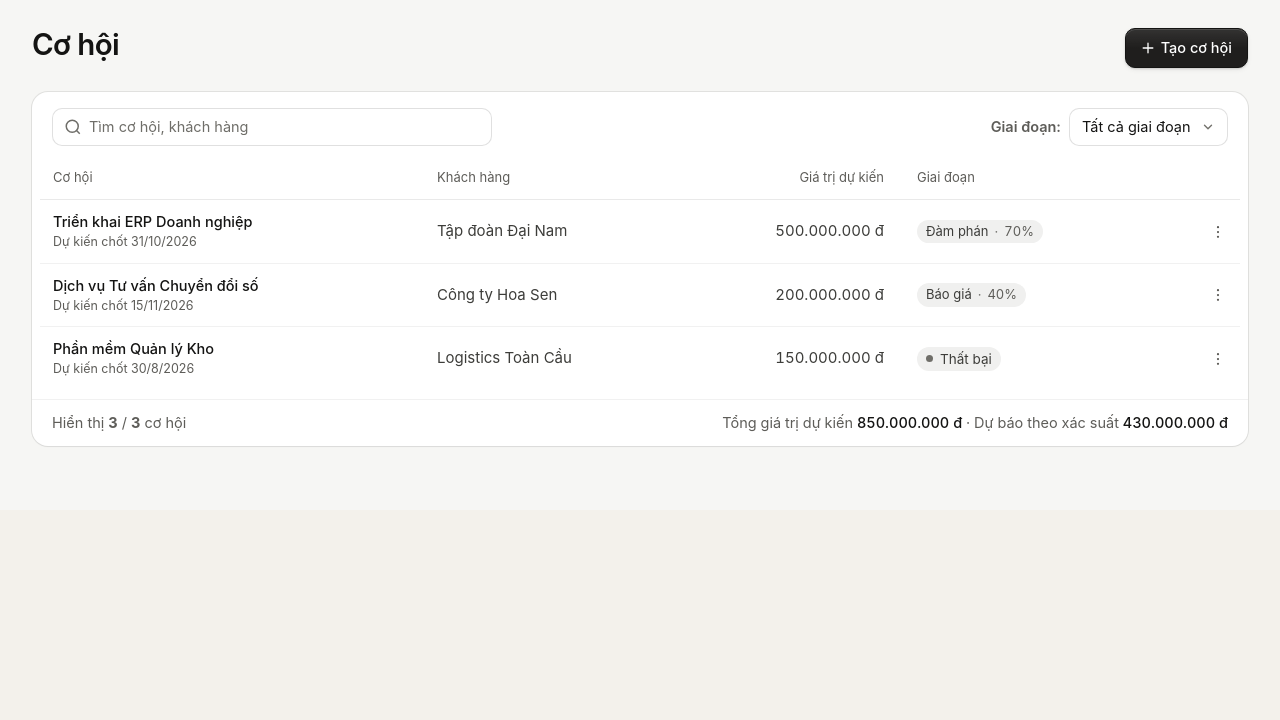
Test: Ghi nhận kết quả thắng thua của cơ hội (NCL-03-CN-005) › Quy tắc QTN-06 & khóa cơ hội đã đóng (TC-04) › QTN-06: cơ hội chưa tới Đàm phán vẫn ghi nhận được kết quả Thua, nhưng không chốt Thắng được
Click the button named "Thao tác với Dịch vụ Tư vấn Chuyển đổi số": (1218, 295) top-left (1202, 279), bottom-right (1234, 311)
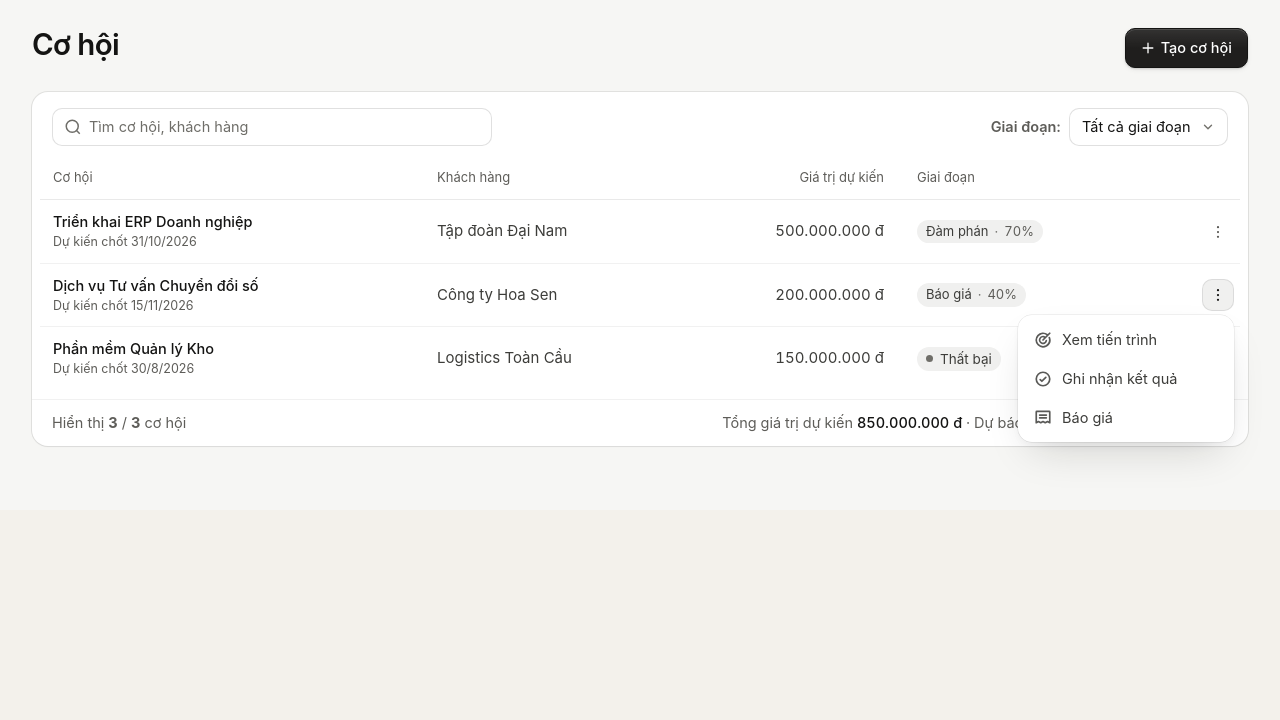
Click the menu item with test id "btn-close-opportunity-2": (1126, 379) top-left (1024, 360), bottom-right (1228, 398)
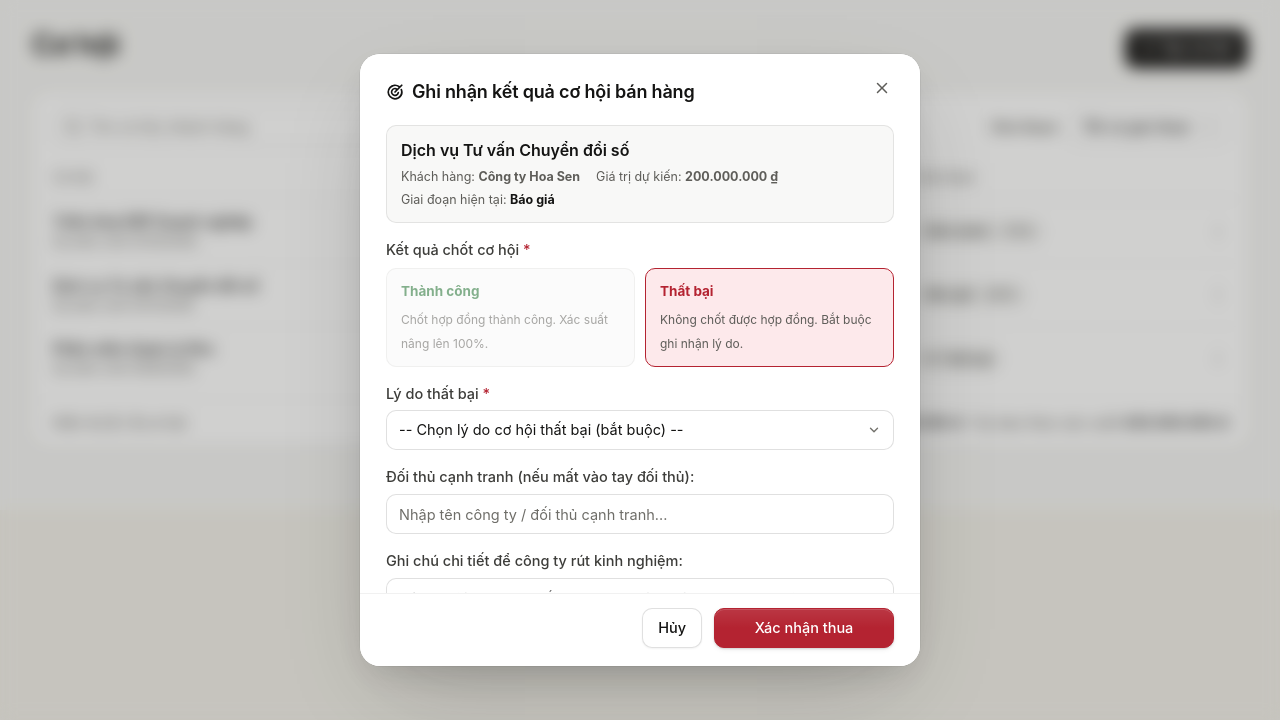
expect the element with test id "lost-reason-section" is shown: met, box top-left (386, 382), bottom-right (894, 450)
Click the button with test id "btn-select-won": (510, 317) top-left (386, 268), bottom-right (635, 367)
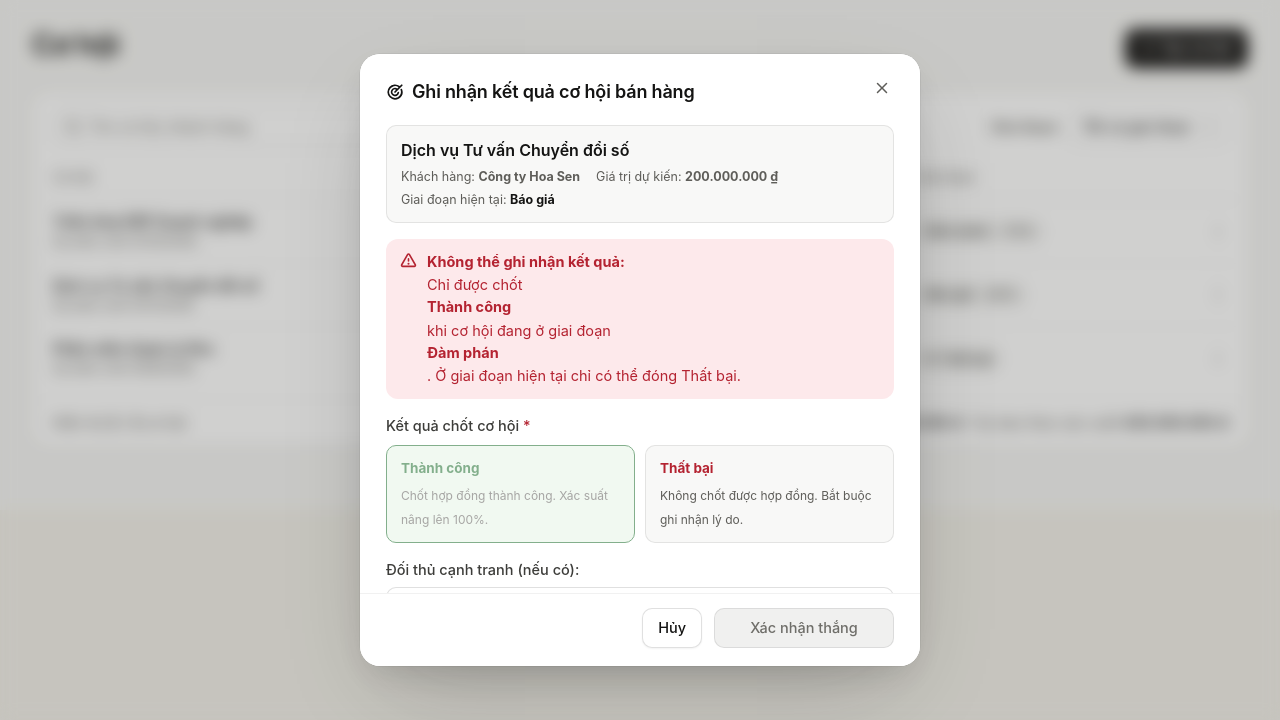
expect the message with test id "ineligible-stage-alert" shows "Đàm phán": met, box top-left (427, 344), bottom-right (499, 360)
